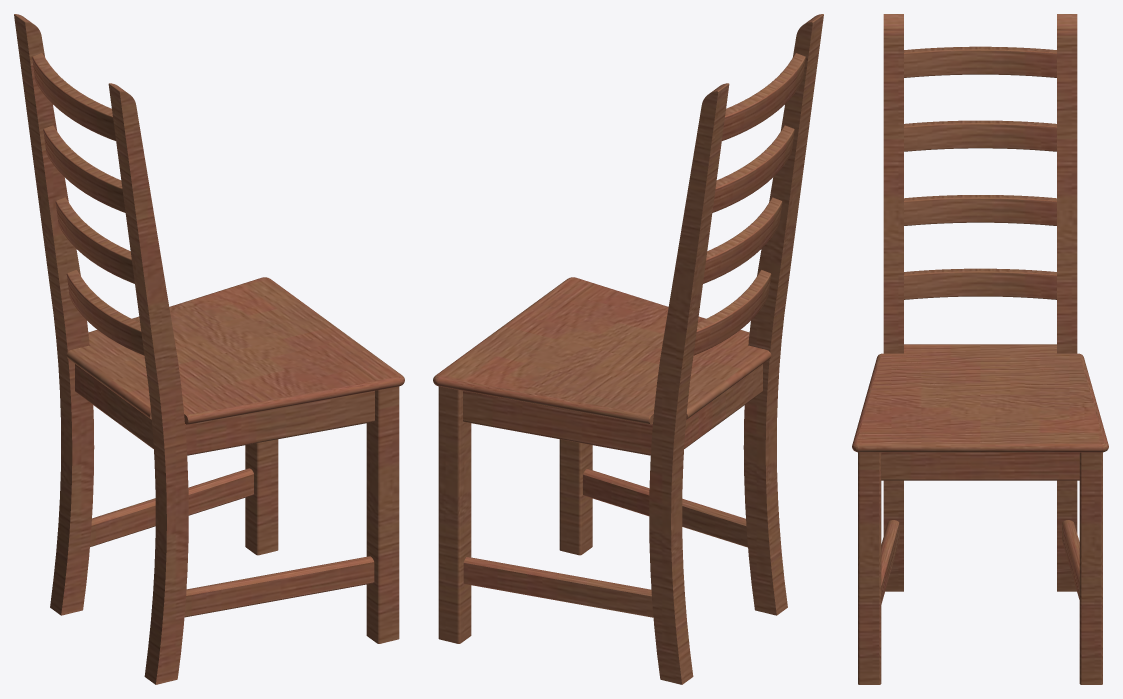
3 views of the same model, side by side, from view 1: azimuth 30°, elevation 25°; view 2: azimuth 150°, elevation 25°; view 3: azimuth 270°, elevation 25° (orthographic). The views are drawn at different scales.
Parts seen in each view (by area): view 1: Mesh13 Assise1 Ikea___Kaustby1 Model, Mesh15 Montant_arri_re2 Ikea___Kaustby1 Model, Mesh1 Montant_arri_re1 Ikea___Kaustby1 Model, Mesh10 Montant_Avant2 Ikea___Kaustby1 Model, Mesh2 Barreau_2_1 Ikea___Kaustby1 Model, Mesh14 Barreau_3_2 Ikea___Kaustby1 Model, Mesh8 Barreau_3_1 Ikea___Kaustby1 Model, Mesh3 Montant_Avant1 Ikea___Kaustby1 Model, Mesh9 Barreau_1_2 Ikea___Kaustby1 Model, Mesh12 Barreau_1_4 Ikea___Kaustby1 Model, Mesh6 Barreau_1_1 Ikea___Kaustby1 Model, Mesh11 Barreau_1_3 Ikea___Kaustby1 Model (+1 smaller); view 2: Mesh13 Assise1 Ikea___Kaustby1 Model, Mesh1 Montant_arri_re1 Ikea___Kaustby1 Model, Mesh15 Montant_arri_re2 Ikea___Kaustby1 Model, Mesh3 Montant_Avant1 Ikea___Kaustby1 Model, Mesh5 Barreau_2_3 Ikea___Kaustby1 Model, Mesh8 Barreau_3_1 Ikea___Kaustby1 Model, Mesh14 Barreau_3_2 Ikea___Kaustby1 Model, Mesh10 Montant_Avant2 Ikea___Kaustby1 Model, Mesh9 Barreau_1_2 Ikea___Kaustby1 Model, Mesh12 Barreau_1_4 Ikea___Kaustby1 Model, Mesh6 Barreau_1_1 Ikea___Kaustby1 Model, Mesh11 Barreau_1_3 Ikea___Kaustby1 Model (+1 smaller); view 3: Mesh13 Assise1 Ikea___Kaustby1 Model, Mesh1 Montant_arri_re1 Ikea___Kaustby1 Model, Mesh15 Montant_arri_re2 Ikea___Kaustby1 Model, Mesh4 Barreau_2_2 Ikea___Kaustby1 Model, Mesh3 Montant_Avant1 Ikea___Kaustby1 Model, Mesh10 Montant_Avant2 Ikea___Kaustby1 Model, Mesh12 Barreau_1_4 Ikea___Kaustby1 Model, Mesh11 Barreau_1_3 Ikea___Kaustby1 Model, Mesh9 Barreau_1_2 Ikea___Kaustby1 Model, Mesh6 Barreau_1_1 Ikea___Kaustby1 Model, Mesh14 Barreau_3_2 Ikea___Kaustby1 Model, Mesh8 Barreau_3_1 Ikea___Kaustby1 Model.
Boxes of the visible parts, x1=… form: Mesh13 Assise1 Ikea___Kaustby1 Model: x1=66, y1=277, x2=404, y2=424; Mesh15 Montant_arri_re2 Ikea___Kaustby1 Model: x1=108, y1=83, x2=188, y2=684; Mesh1 Montant_arri_re1 Ikea___Kaustby1 Model: x1=14, y1=14, x2=94, y2=615; Mesh10 Montant_Avant2 Ikea___Kaustby1 Model: x1=366, y1=386, x2=399, y2=643; Mesh2 Barreau_2_1 Ikea___Kaustby1 Model: x1=185, y1=391, x2=374, y2=455; Mesh14 Barreau_3_2 Ikea___Kaustby1 Model: x1=184, y1=556, x2=374, y2=617; Mesh8 Barreau_3_1 Ikea___Kaustby1 Model: x1=90, y1=468, x2=253, y2=546; Mesh3 Montant_Avant1 Ikea___Kaustby1 Model: x1=245, y1=439, x2=278, y2=555; Mesh9 Barreau_1_2 Ikea___Kaustby1 Model: x1=32, y1=53, x2=115, y2=140; Mesh12 Barreau_1_4 Ikea___Kaustby1 Model: x1=43, y1=125, x2=125, y2=212; Mesh6 Barreau_1_1 Ikea___Kaustby1 Model: x1=55, y1=197, x2=134, y2=283; Mesh11 Barreau_1_3 Ikea___Kaustby1 Model: x1=66, y1=270, x2=144, y2=355; Mesh13 Assise1 Ikea___Kaustby1 Model: x1=433, y1=277, x2=771, y2=424; Mesh1 Montant_arri_re1 Ikea___Kaustby1 Model: x1=649, y1=83, x2=729, y2=684; Mesh15 Montant_arri_re2 Ikea___Kaustby1 Model: x1=743, y1=14, x2=823, y2=615; Mesh3 Montant_Avant1 Ikea___Kaustby1 Model: x1=438, y1=386, x2=471, y2=643; Mesh5 Barreau_2_3 Ikea___Kaustby1 Model: x1=463, y1=391, x2=652, y2=455; Mesh8 Barreau_3_1 Ikea___Kaustby1 Model: x1=463, y1=557, x2=653, y2=617; Mesh14 Barreau_3_2 Ikea___Kaustby1 Model: x1=583, y1=469, x2=747, y2=547; Mesh10 Montant_Avant2 Ikea___Kaustby1 Model: x1=559, y1=439, x2=592, y2=555; Mesh9 Barreau_1_2 Ikea___Kaustby1 Model: x1=722, y1=53, x2=805, y2=140; Mesh12 Barreau_1_4 Ikea___Kaustby1 Model: x1=712, y1=125, x2=794, y2=212; Mesh6 Barreau_1_1 Ikea___Kaustby1 Model: x1=703, y1=197, x2=782, y2=283; Mesh11 Barreau_1_3 Ikea___Kaustby1 Model: x1=693, y1=270, x2=771, y2=355; Mesh13 Assise1 Ikea___Kaustby1 Model: x1=852, y1=344, x2=1108, y2=452; Mesh1 Montant_arri_re1 Ikea___Kaustby1 Model: x1=1057, y1=14, x2=1077, y2=591; Mesh15 Montant_arri_re2 Ikea___Kaustby1 Model: x1=883, y1=14, x2=903, y2=591; Mesh4 Barreau_2_2 Ikea___Kaustby1 Model: x1=881, y1=452, x2=1079, y2=480; Mesh3 Montant_Avant1 Ikea___Kaustby1 Model: x1=1079, y1=452, x2=1102, y2=684; Mesh10 Montant_Avant2 Ikea___Kaustby1 Model: x1=858, y1=452, x2=881, y2=684; Mesh12 Barreau_1_4 Ikea___Kaustby1 Model: x1=904, y1=120, x2=1056, y2=151; Mesh11 Barreau_1_3 Ikea___Kaustby1 Model: x1=904, y1=268, x2=1056, y2=299; Mesh9 Barreau_1_2 Ikea___Kaustby1 Model: x1=904, y1=46, x2=1056, y2=77; Mesh6 Barreau_1_1 Ikea___Kaustby1 Model: x1=904, y1=195, x2=1056, y2=225; Mesh14 Barreau_3_2 Ikea___Kaustby1 Model: x1=881, y1=520, x2=899, y2=604; Mesh8 Barreau_3_1 Ikea___Kaustby1 Model: x1=1062, y1=520, x2=1079, y2=599.
Bounding box in the file's own units: 49.77 × 104 × 43.99.
Materials: 1 (1 with a texture image).
